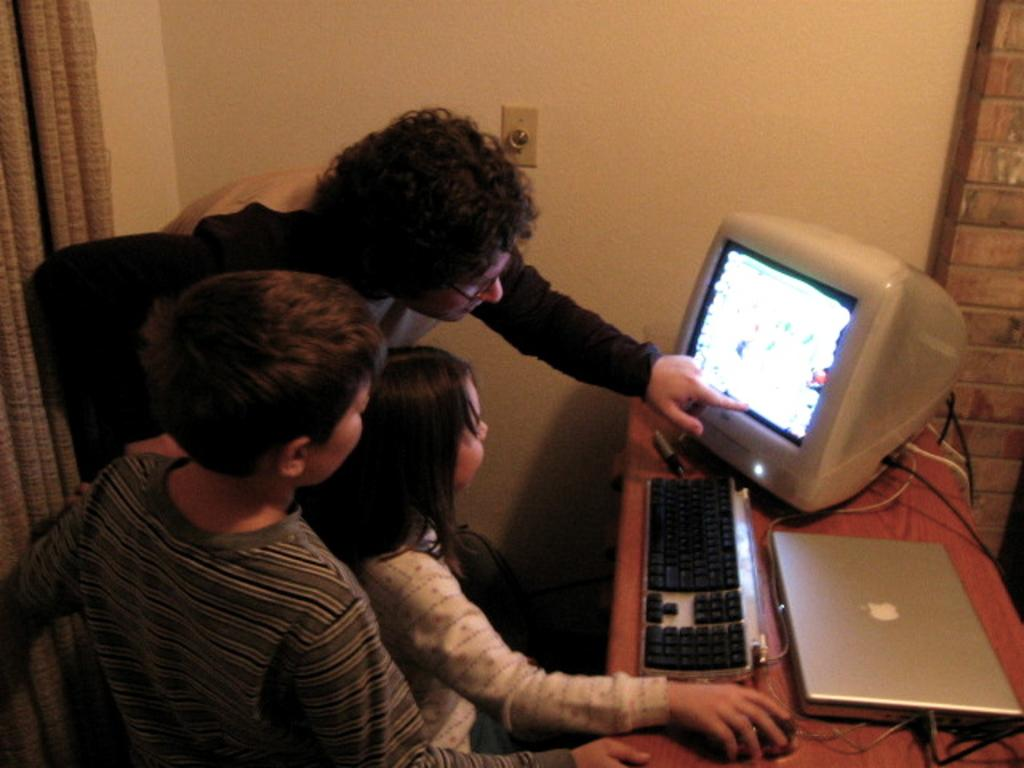Computer-keyboard: (638, 478, 766, 683)
